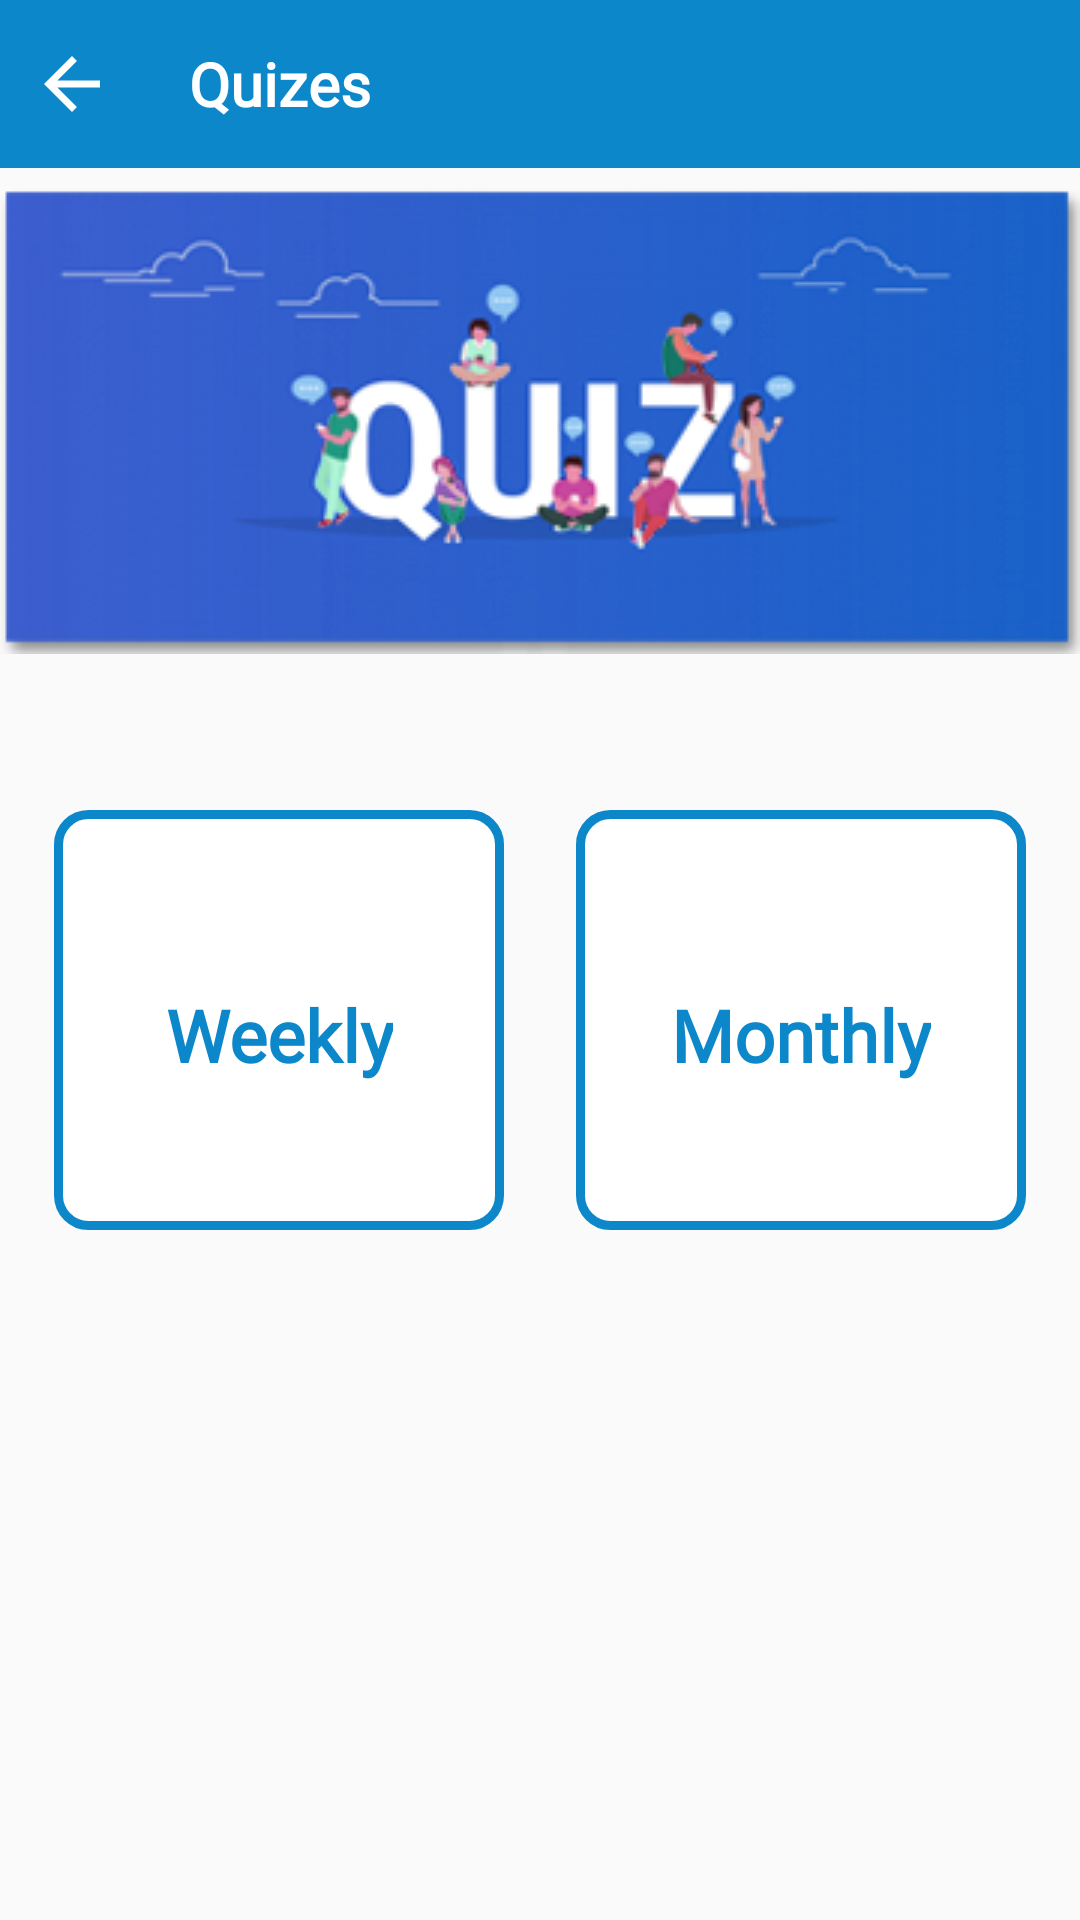

Where icons sit on this 1080*1920 app screen, as (x1, y1, x2, y2):
arrow back: (44, 56, 100, 112)
